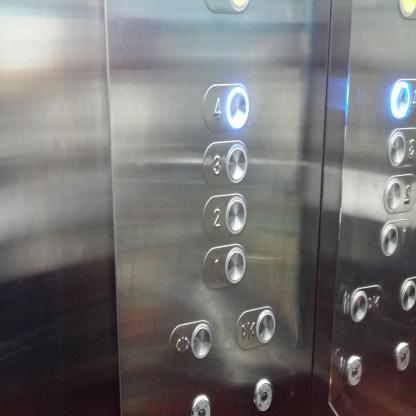1: (202, 243, 248, 290), (375, 218, 416, 260)
2: (202, 192, 249, 238)
3: (201, 138, 249, 190)
4: (200, 80, 250, 135)
close: (235, 305, 277, 351), (344, 282, 385, 325)
indicator: (342, 351, 365, 390), (253, 377, 275, 416), (393, 340, 412, 376), (192, 392, 212, 416)
open: (168, 318, 213, 366)
unknown: (381, 173, 416, 215)
